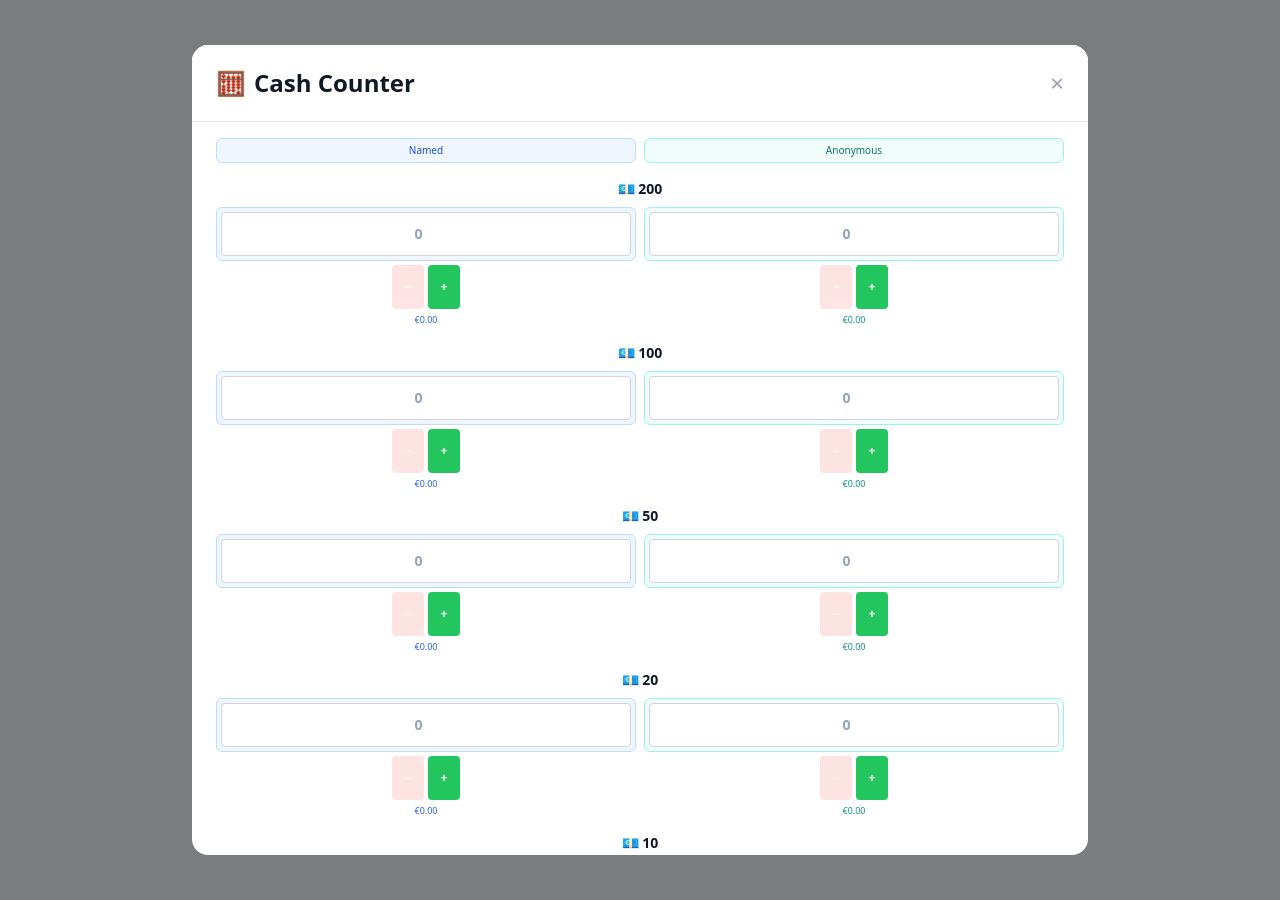
Test: CashCounterModal - Simplified Implementation (SPEC-UI-003) › Real-time Total Calculation › should calculate anonymous total in real-time
Expected: the text "💶 100" is shown, 618,342 -> 662,362
Type "2" into the 4th number field with placeholder "0". click: (854, 398)
box: 649,376 -> 1059,420
Wait 500 ms
(page scrolled)
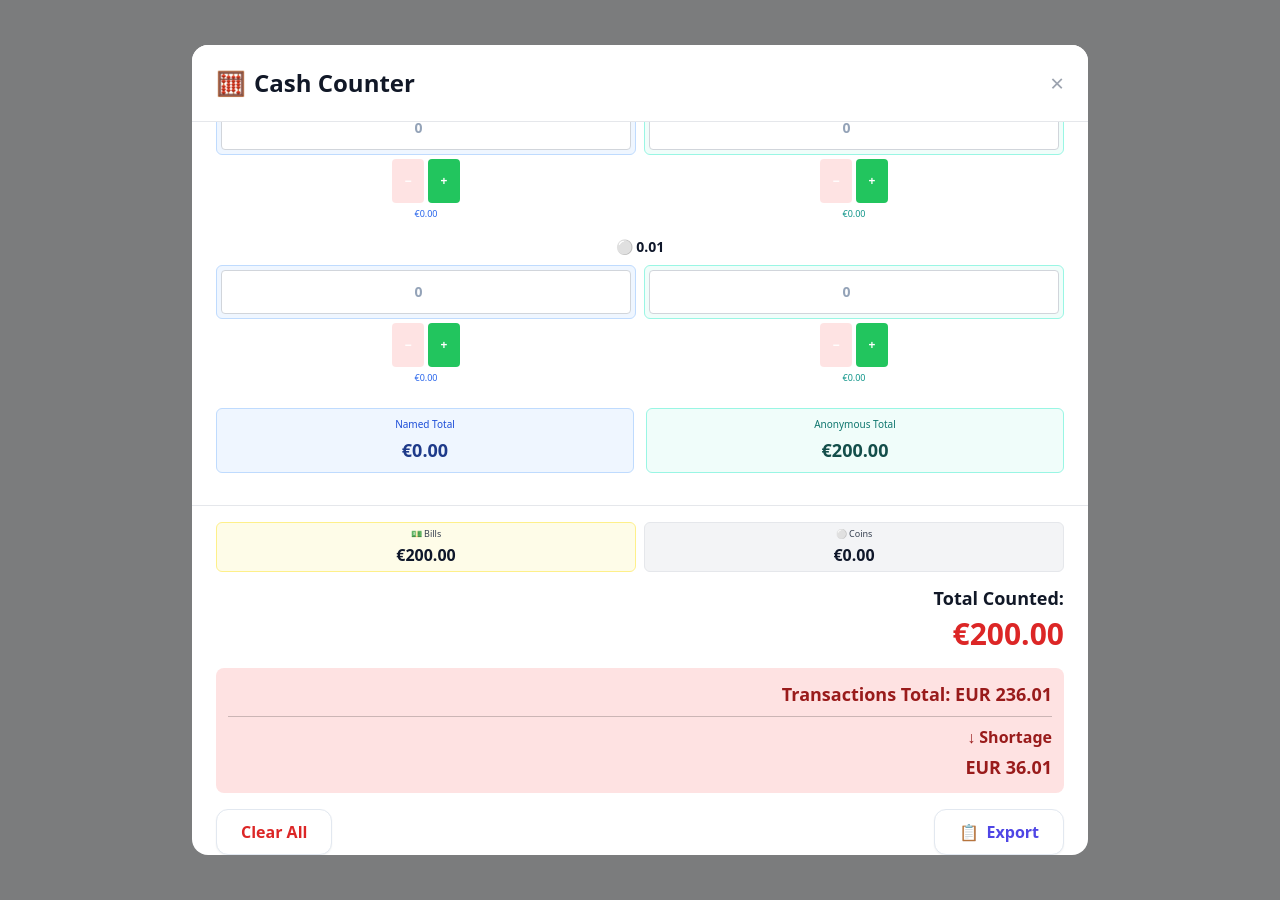
Result: the text "€200.00" below "Anonymous Total" is shown at 822,438 -> 888,462
